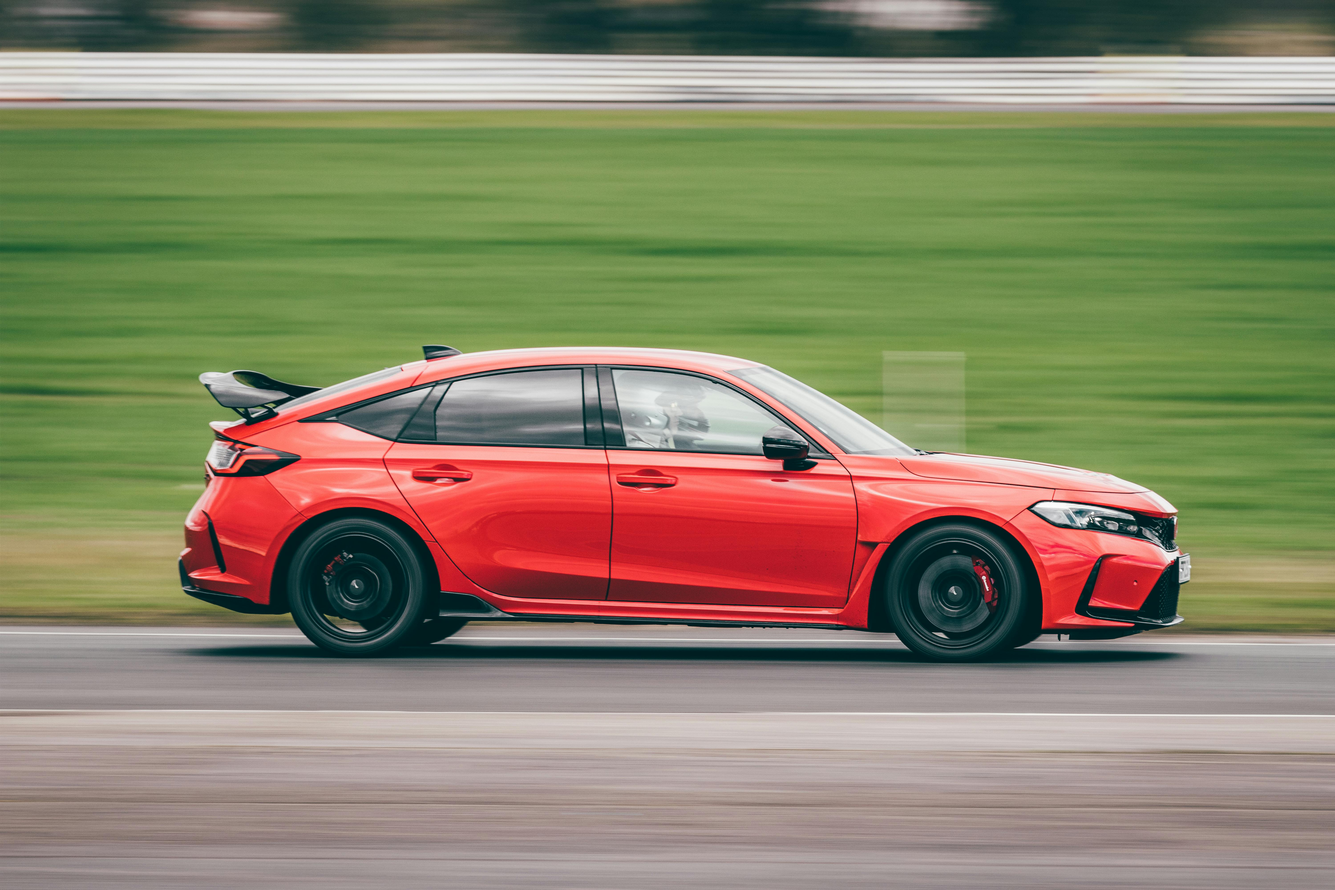other: (178, 335, 1194, 665)
